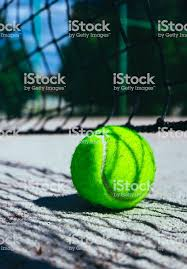tennis_ball: (71, 125, 156, 211)
